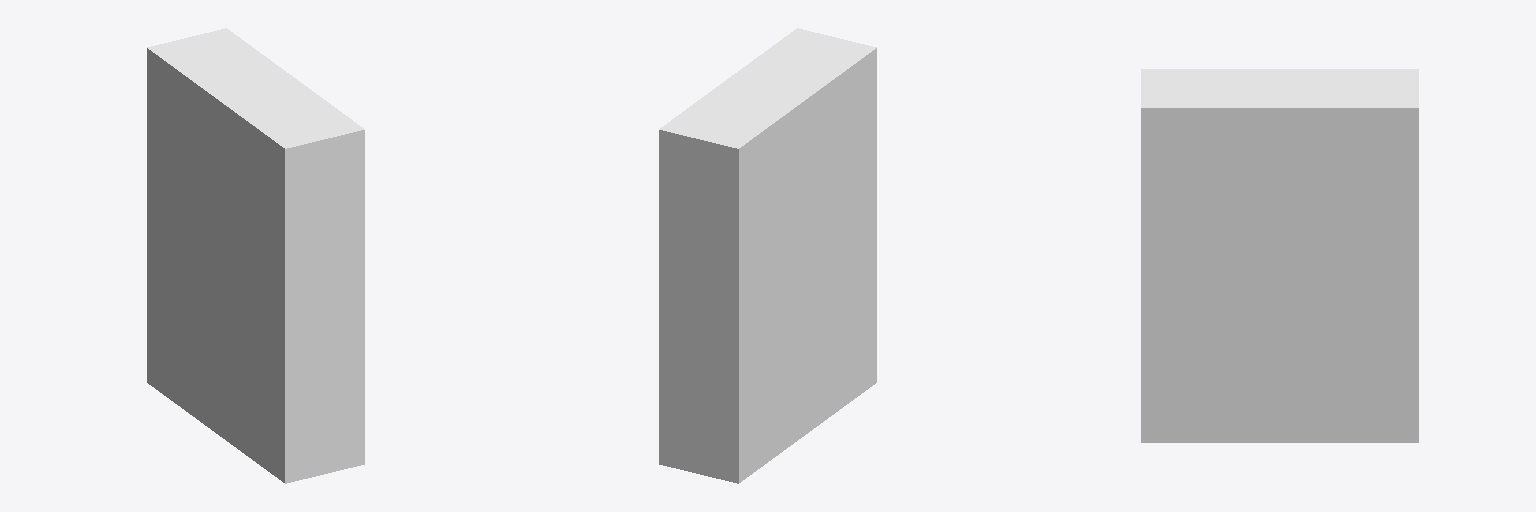
File: StoneBrickWall.obj
3 views of the same model, side by side, from view 1: azimuth 30°, elevation 25°; view 2: azimuth 150°, elevation 25°; view 3: azimuth 270°, elevation 25° (orthographic).
Parts seen in each view (by area): view 1: StoneBrickWall; view 2: StoneBrickWall; view 3: StoneBrickWall.
Part boxes in pixels (bbox=[...]): StoneBrickWall: bbox=[147, 28, 364, 483]; StoneBrickWall: bbox=[659, 28, 876, 483]; StoneBrickWall: bbox=[1141, 69, 1418, 442].
Bounding box in the file's own units: 0.5 × 2 × 1.5.